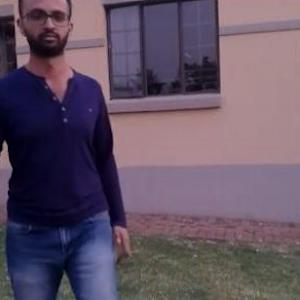follow: (0, 0, 135, 299)
